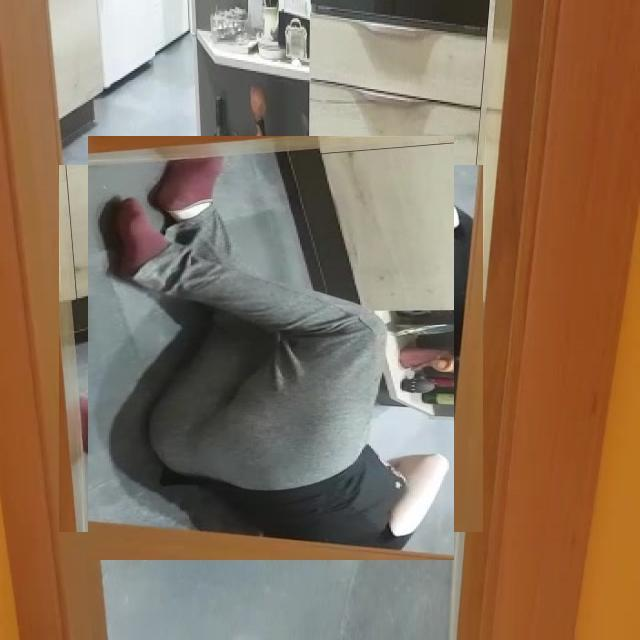Fall: (145, 129, 454, 558)
